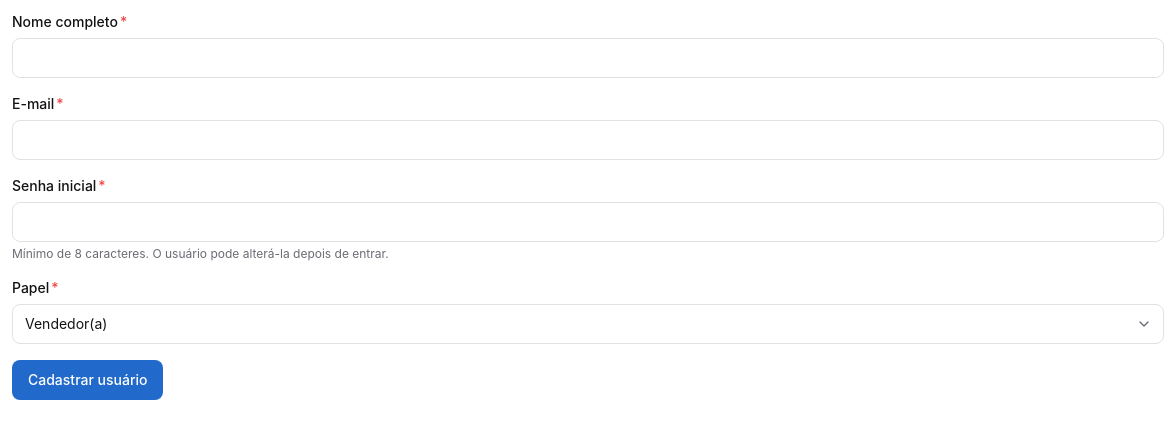
it: UsuarioForm › exibe o erro 409 de e-mail duplicado no campo de e-mail
Step 1. Type "Ana Souza" into the field labelled "Nome completo*" → [588, 58], box [12,38,1164,78]
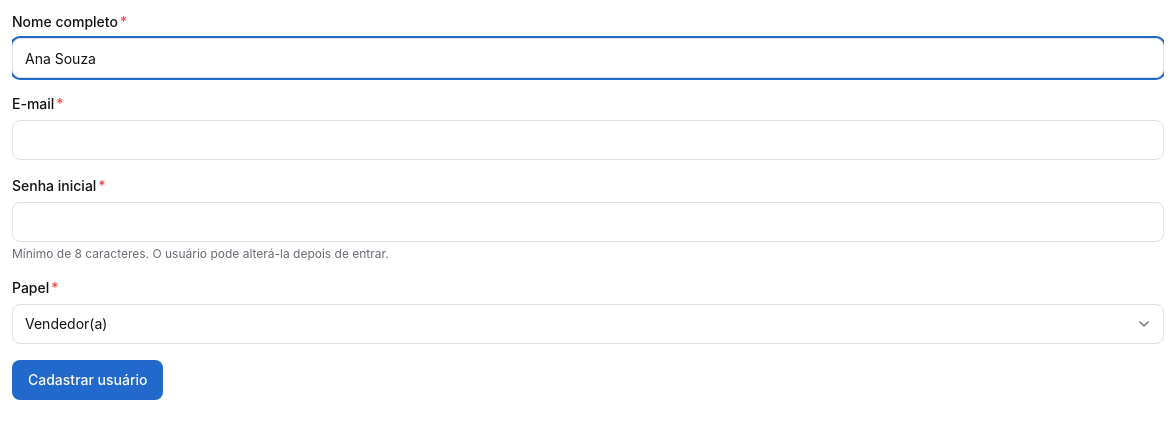
Step 2. Type "ana@amactive.dev" into the field labelled "E-mail*" → [588, 140], box [12,120,1164,160]
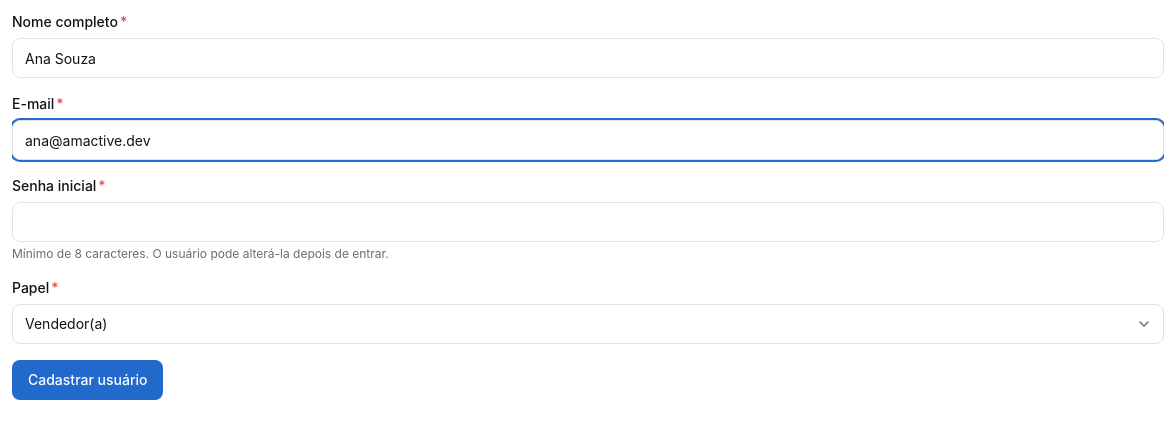
Step 3. Type "senha1234" into the password field labelled "Senha inicial*" → [588, 222], box [12,202,1164,242]
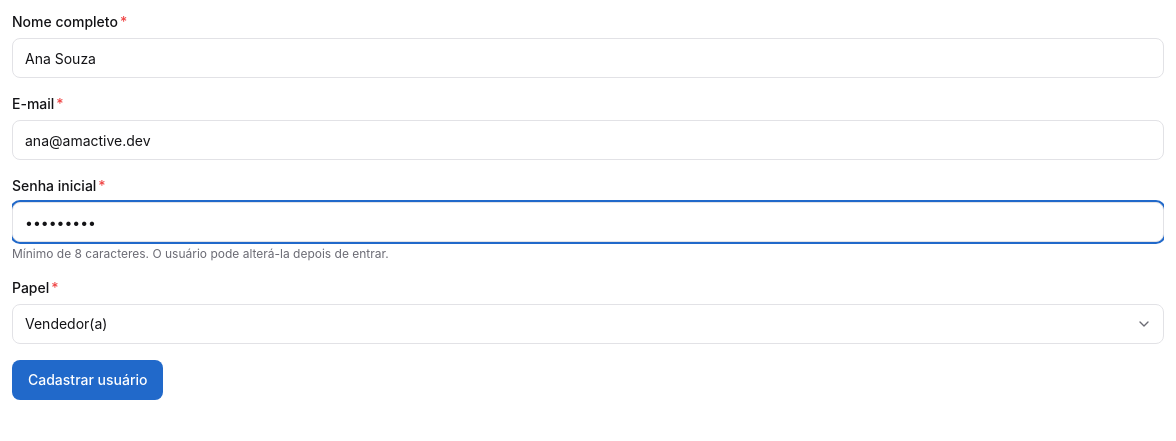
Step 4. Click the button "Cadastrar usuário" → [88, 380], box [12,360,163,400]
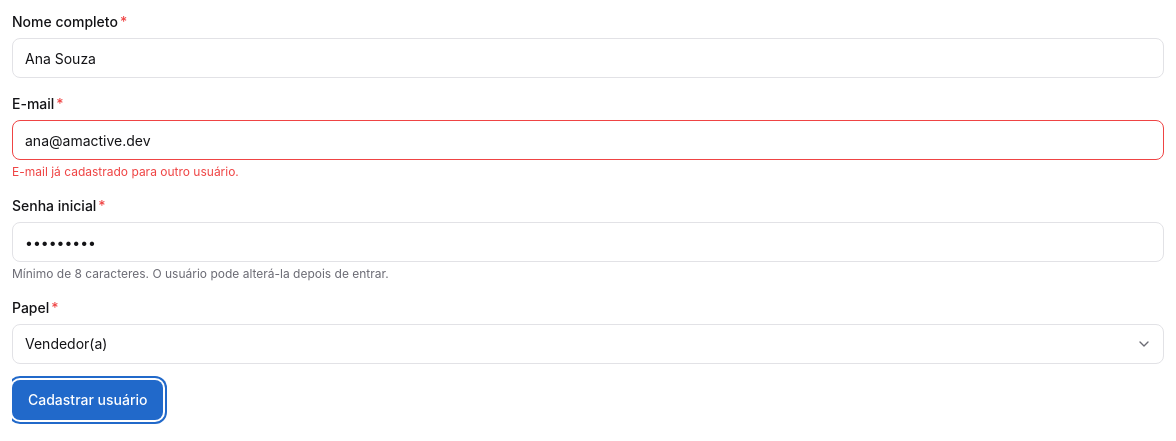
Result: the text "E-mail já cadastrado para outro usuário." is shown at [12,164,239,179]
